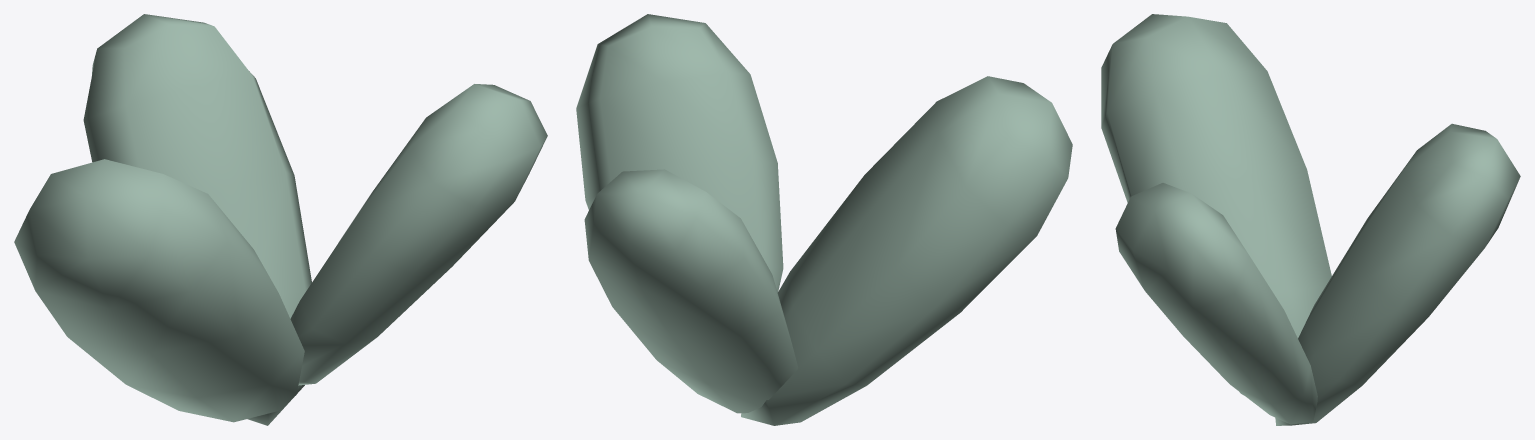
Rendered from TileGrass1.fbx.
3 renders of one model, left to right at view 1: azimuth 30°, elevation 25°; view 2: azimuth 150°, elevation 25°; view 3: azimuth 270°, elevation 25°, orthographic. The views are drawn at different scales.
Parts seen in each view (by area): view 1: TileGrass1; view 2: TileGrass1; view 3: TileGrass1.
Boxes of the visible parts, x1,y1,x2,y2 form: TileGrass1: (14, 14, 547, 425); TileGrass1: (576, 14, 1072, 425); TileGrass1: (1101, 14, 1520, 425).
Size of the model in its own units: 51.44 by 34.65 by 41.59.
